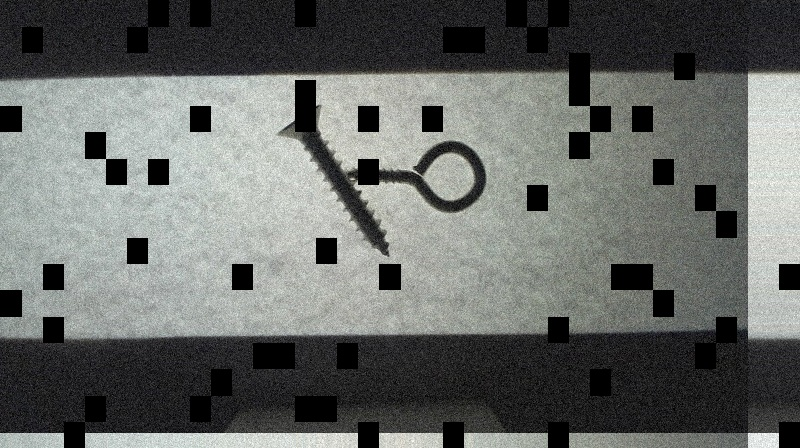O001: (341, 139, 486, 213)
S001: (276, 105, 393, 257)
